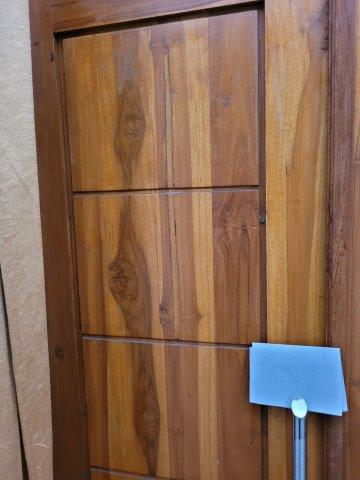kertas: (246, 341, 347, 418)
